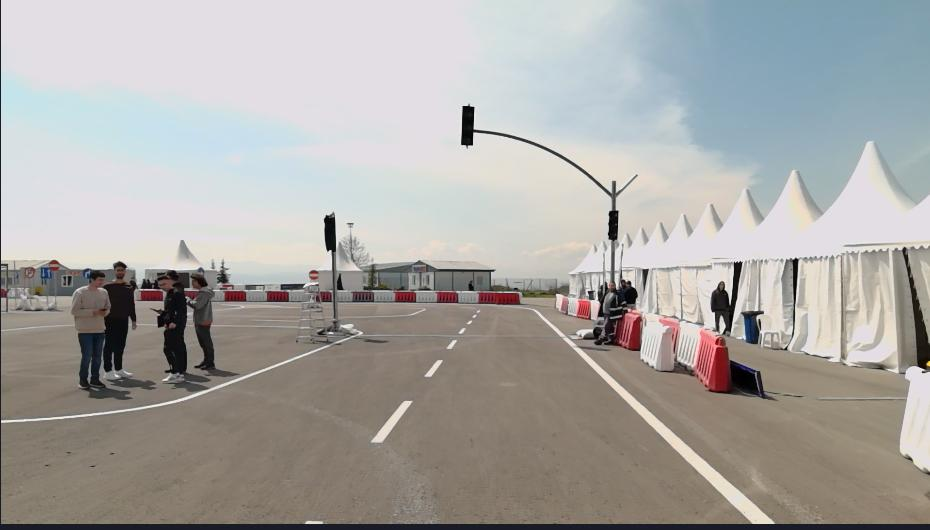nesne: (0, 299, 779, 524), (0, 303, 481, 525), (307, 303, 774, 525), (530, 304, 777, 521), (0, 328, 363, 424), (473, 128, 640, 207), (615, 311, 736, 392), (71, 270, 112, 390), (145, 269, 187, 379), (104, 259, 136, 381), (897, 362, 929, 468), (186, 273, 213, 365), (337, 288, 521, 301), (690, 332, 731, 389), (639, 318, 678, 372), (593, 278, 625, 341), (295, 282, 328, 343), (372, 398, 414, 441), (724, 359, 767, 397), (707, 278, 734, 336), (210, 288, 302, 304), (550, 293, 596, 318), (677, 322, 701, 369), (615, 311, 643, 346), (739, 307, 759, 341), (459, 104, 475, 146), (477, 291, 520, 304), (759, 327, 782, 351), (322, 212, 336, 249), (620, 278, 637, 308), (330, 245, 336, 327), (422, 357, 443, 378), (606, 208, 619, 239), (570, 324, 594, 339), (455, 286, 478, 301), (263, 290, 288, 303), (242, 290, 268, 302), (574, 298, 589, 318), (223, 290, 245, 303), (609, 240, 616, 280), (372, 289, 395, 301), (413, 289, 436, 301), (139, 288, 160, 301), (392, 290, 414, 302), (433, 290, 457, 300), (17, 291, 29, 310), (350, 291, 374, 300), (566, 297, 577, 315), (336, 290, 353, 301), (305, 268, 320, 280), (341, 322, 357, 333), (288, 290, 303, 301), (54, 269, 58, 308), (212, 291, 224, 304), (553, 294, 562, 310), (81, 265, 92, 278), (445, 336, 458, 347), (41, 266, 51, 280), (129, 288, 140, 300), (24, 264, 34, 277), (28, 276, 32, 307), (44, 278, 48, 308), (561, 295, 568, 312), (49, 259, 59, 270), (320, 291, 330, 302), (590, 300, 596, 318)
